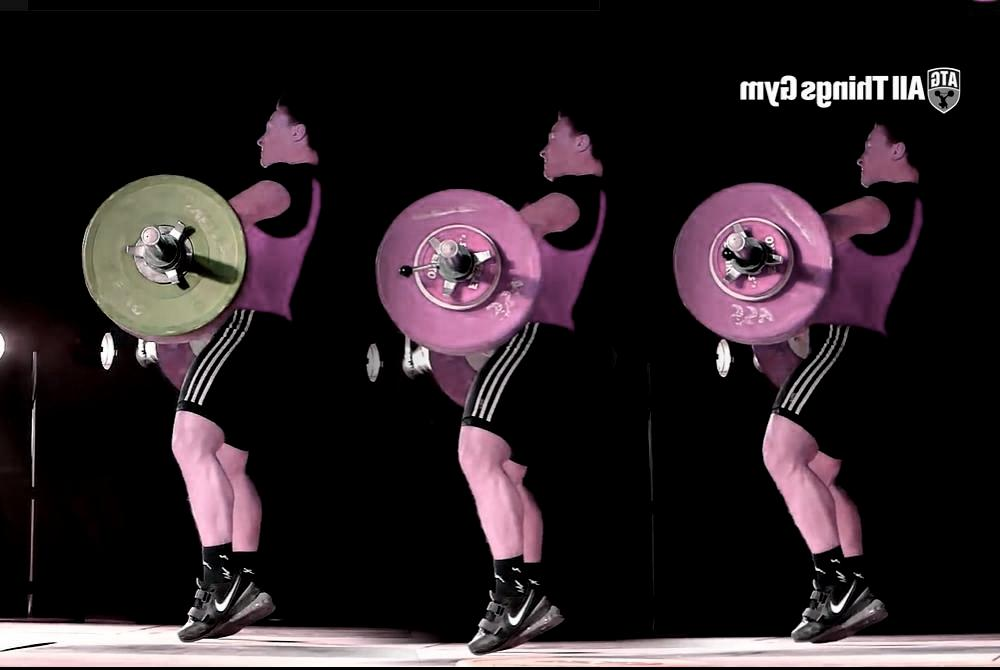Barbell: (717, 228, 759, 263), (433, 231, 468, 264), (132, 219, 165, 252)
